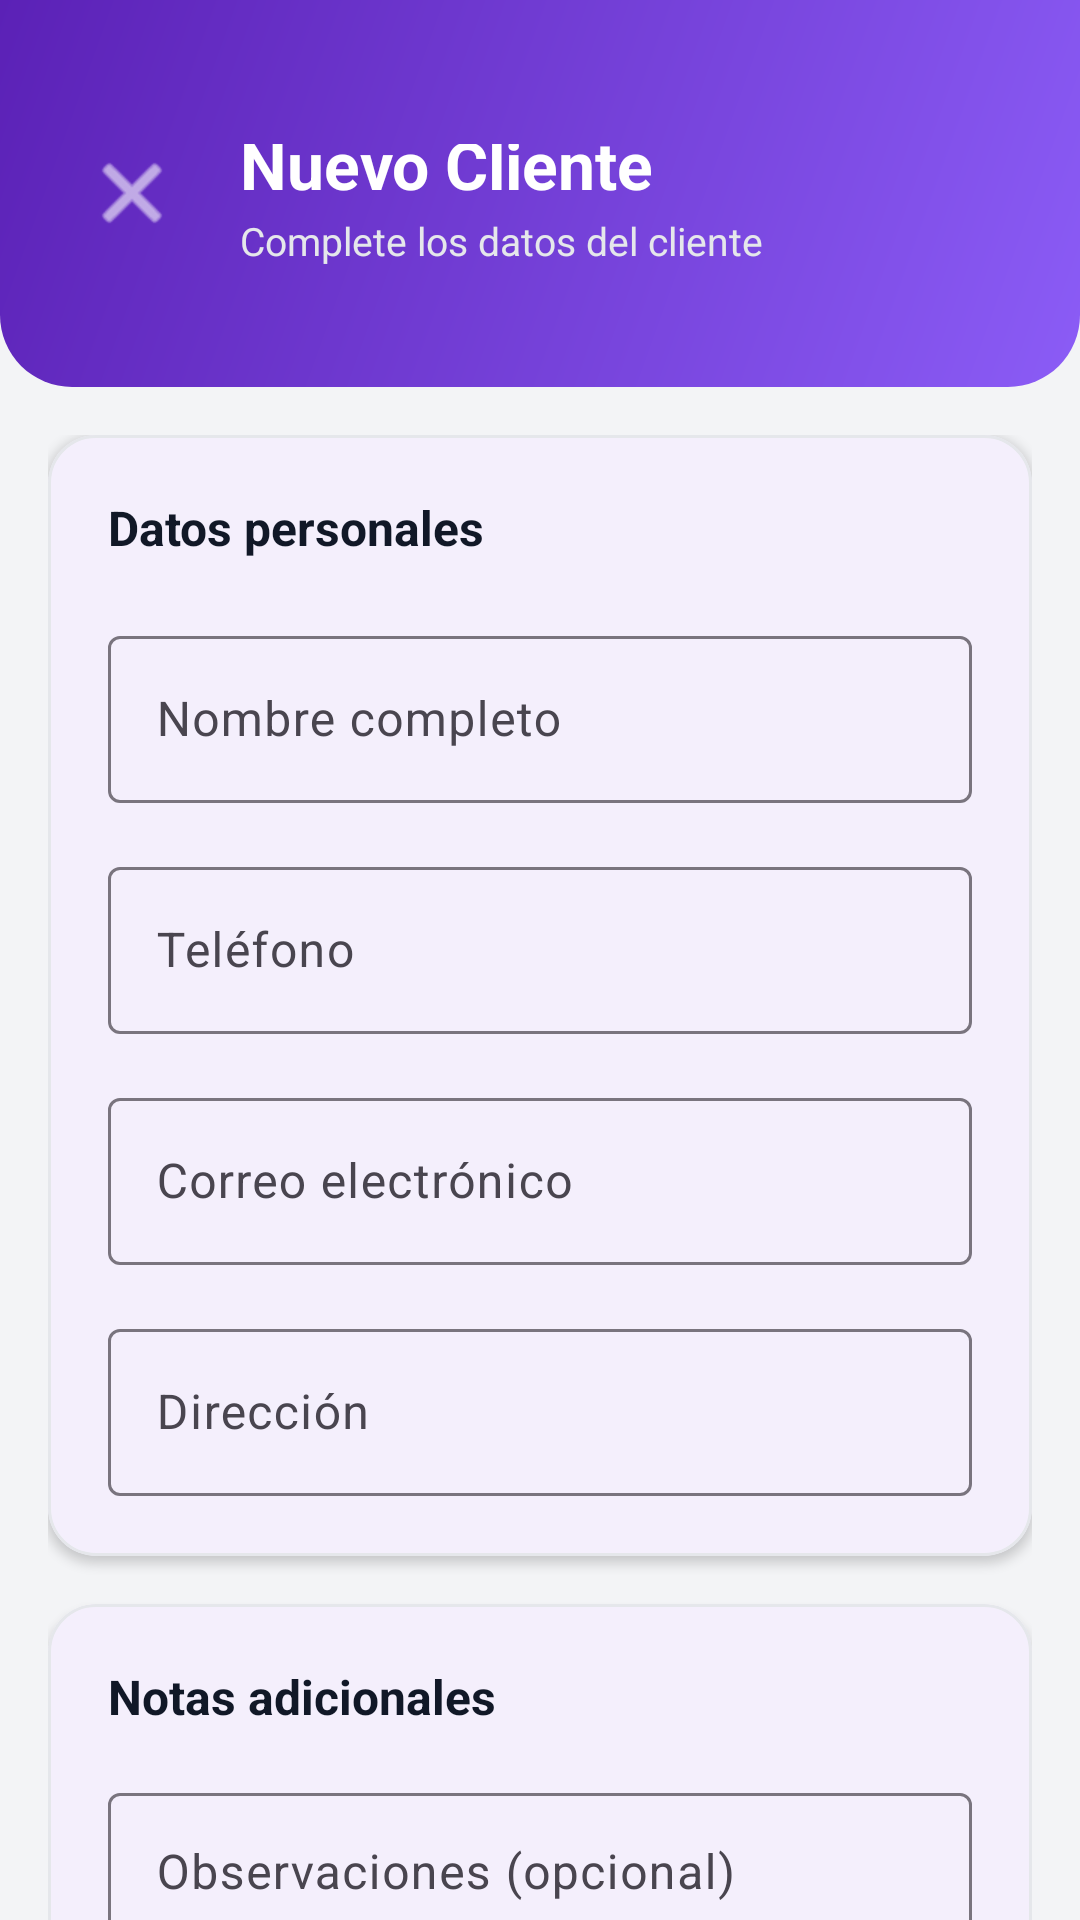

Icons on this 1080px×1920px Android screen, each with its box as (x1, y1, x2, y2):
Volver: (102, 163, 162, 223)
